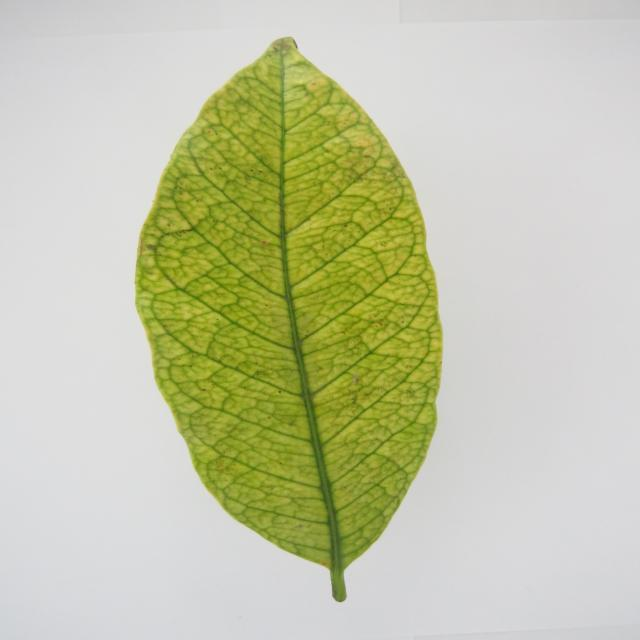DeficienciaNutricional-Hierro: (136, 40, 439, 601)
